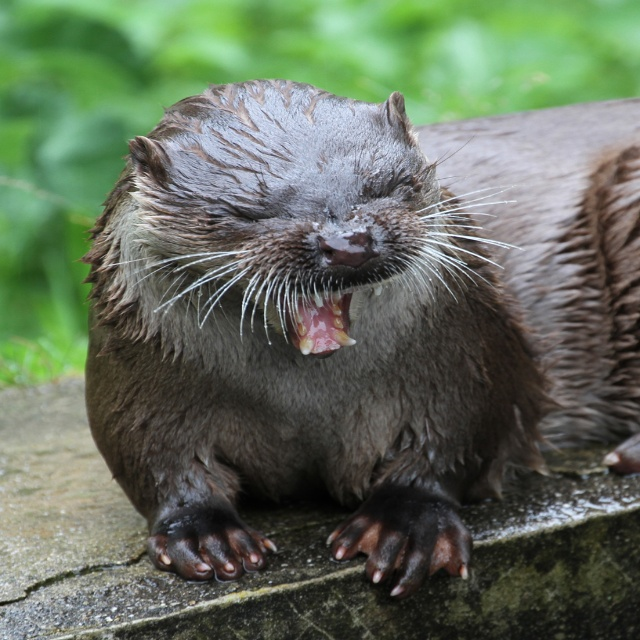Otter: (70, 77, 640, 597)
